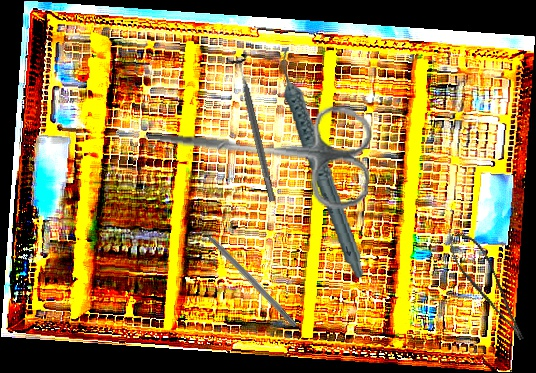Fixation Ring: (224, 52, 284, 205)
Handpiece: (278, 41, 367, 284)
Hook Surgical: (193, 219, 300, 329)
Iris Scissors: (138, 88, 376, 212)
Micro Scissor: (443, 224, 528, 351)
